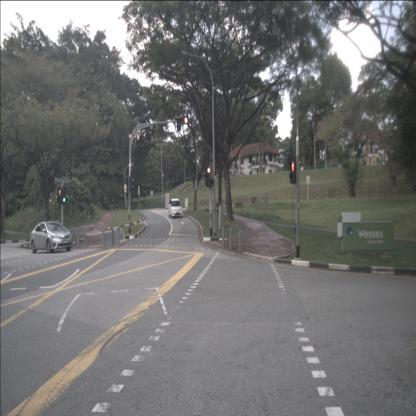vehicle-car: (30, 220, 72, 254), (168, 198, 183, 219)
